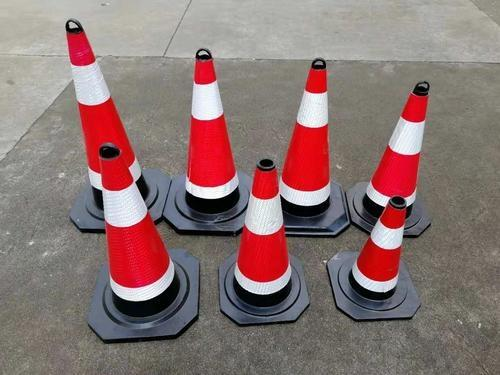cone_barrel: (61, 17, 159, 209), (95, 141, 191, 327), (355, 84, 439, 232), (174, 52, 244, 225), (225, 164, 301, 312), (273, 61, 340, 219), (344, 193, 415, 309)
